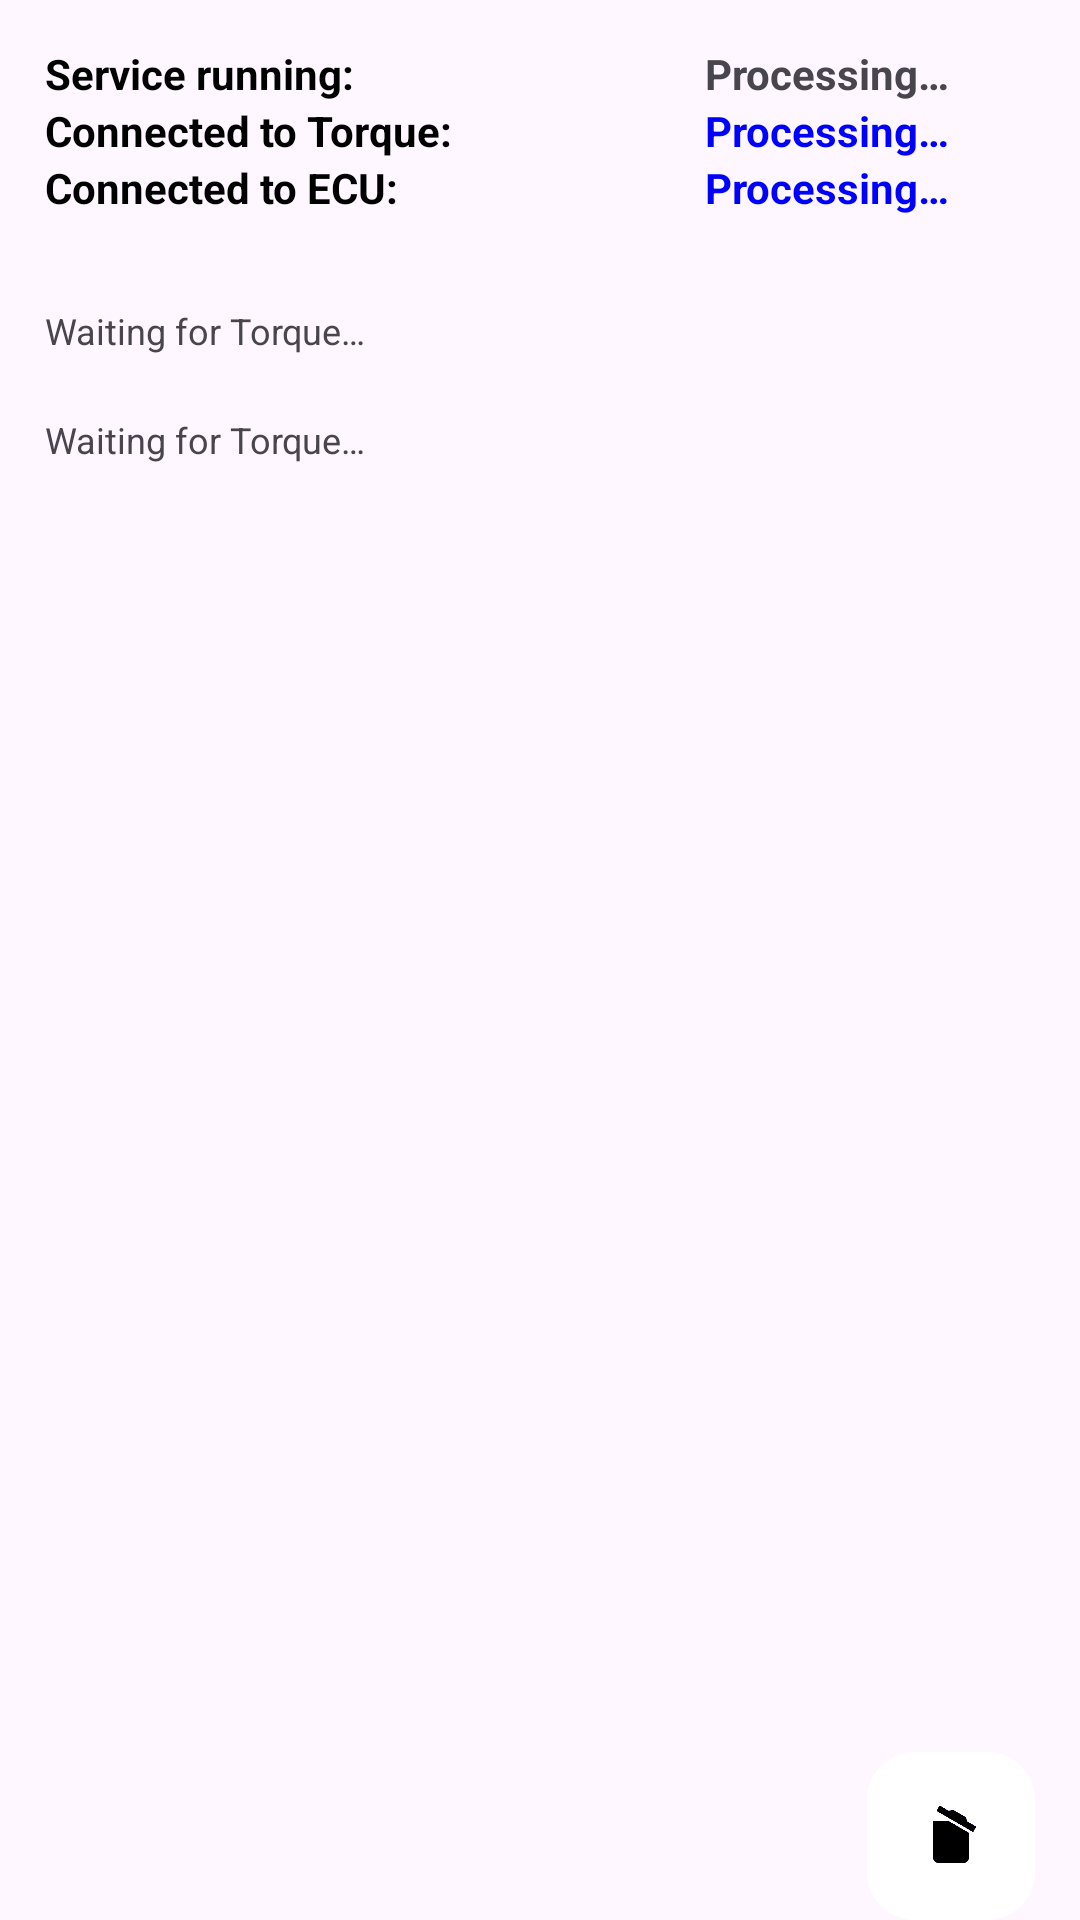

Point at icon controls on the screen. Image size 1080x1920, points as (x,y).
Delete log: (954,1834)
